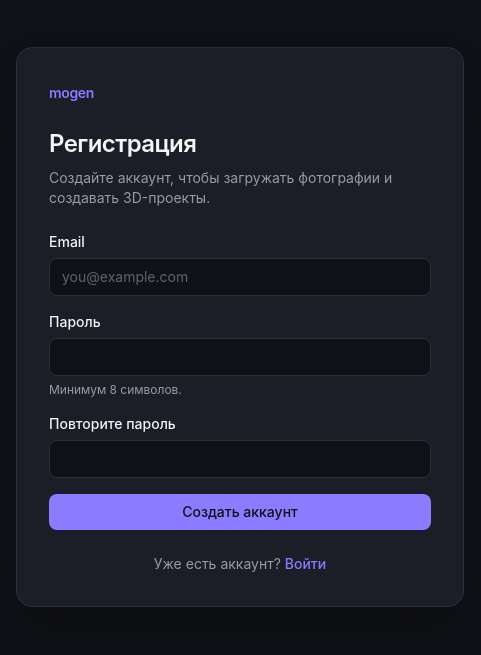
Test case: RegisterPage › shows a duplicate-email error from the API
Type "user@example.com" into the field labelled "Email" at (240, 277), box [49, 258, 431, 296]
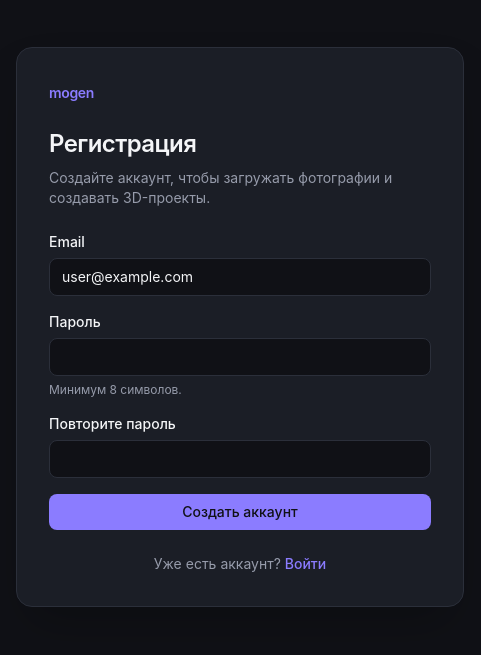
Type "password123" into the password field labelled "Пароль" at (240, 357), box [49, 338, 431, 376]
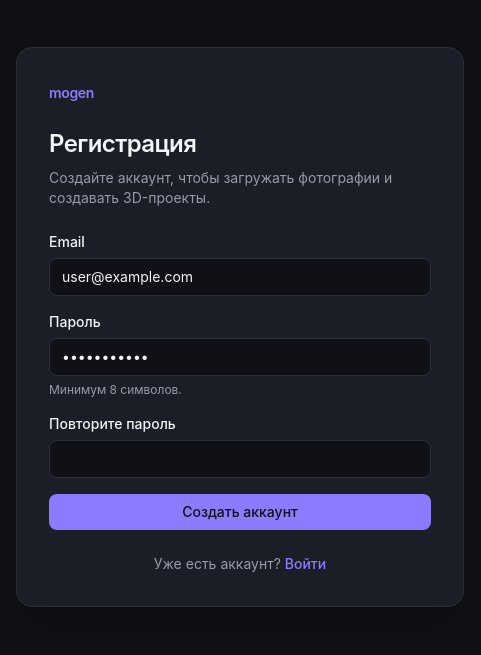
Type "password123" into the password field labelled "Повторите пароль" at (240, 459), box [49, 440, 431, 478]
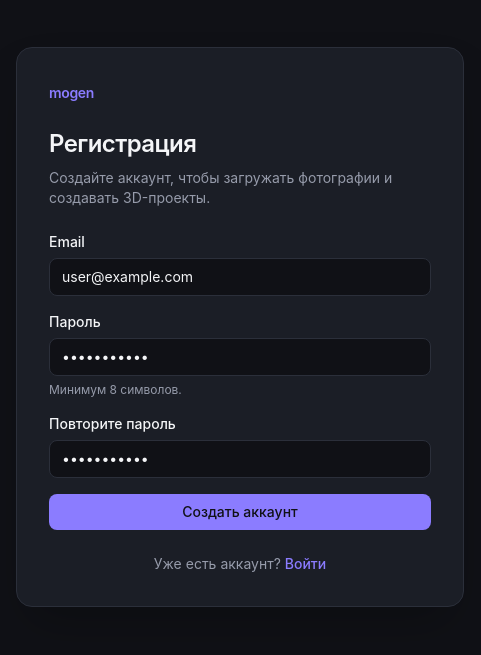
Click the button "Создать аккаунт" at (240, 512), box [49, 494, 431, 530]
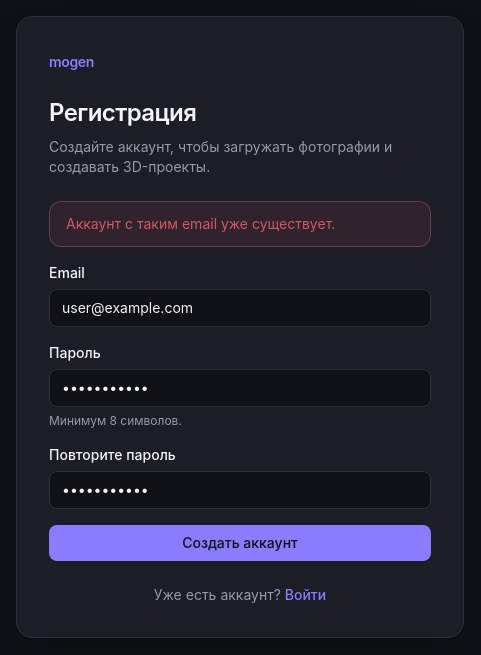
Now the text "Аккаунт с таким email уже существует." is shown, box [66, 215, 335, 232]
